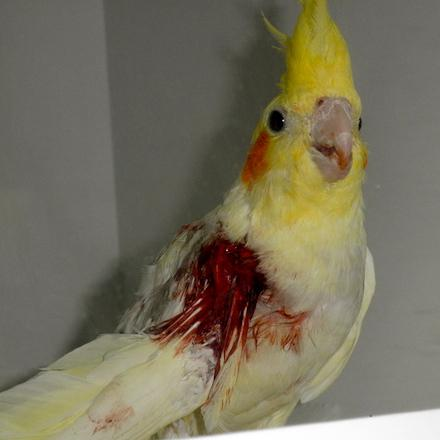bleeding: (151, 212, 326, 385)
